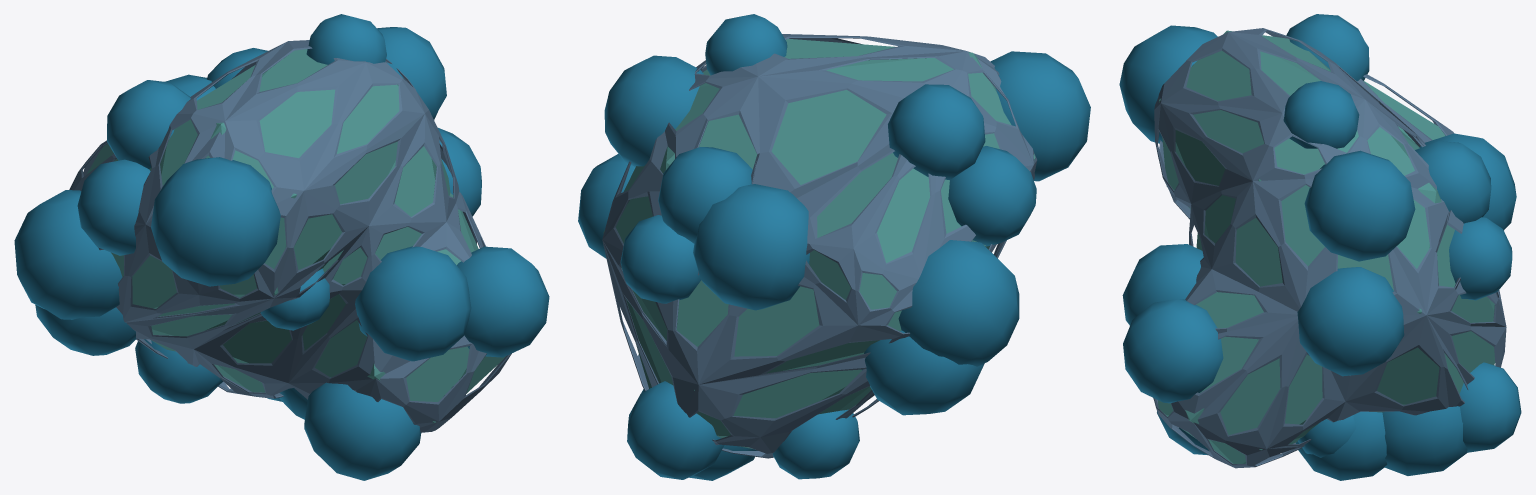
Rendered from glueBush11.fbx.
3 renders of one model, left to right at view 1: azimuth 30°, elevation 25°; view 2: azimuth 150°, elevation 25°; view 3: azimuth 270°, elevation 25°, orthographic. The views are drawn at different scales.
Parts seen in each view (by area): view 1: Mball.019; view 2: Mball.019; view 3: Mball.019.
Boxes of the visible parts, x1,y1,x2,y2 form: Mball.019: (14, 14, 549, 480); Mball.019: (578, 14, 1090, 480); Mball.019: (1119, 14, 1521, 480).
Size of the model in its own units: 271 by 246 by 229.
